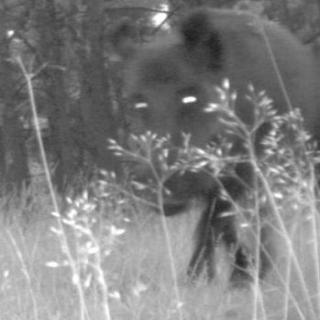Pig: (113, 15, 320, 281)
